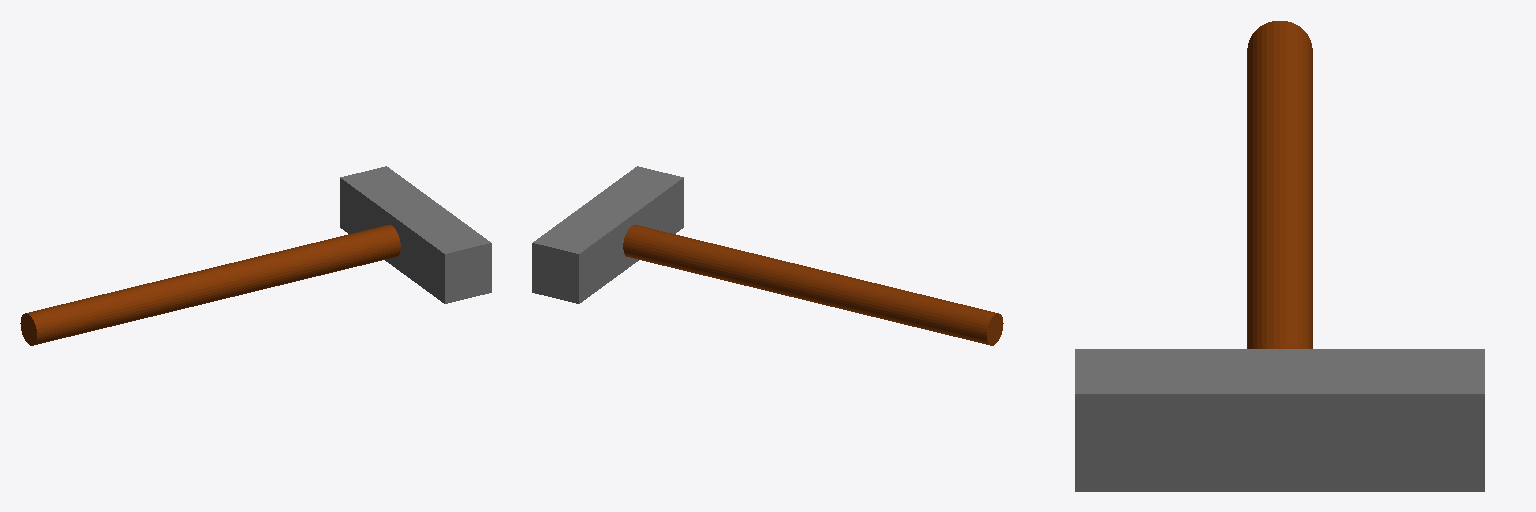
URDF robot description (handle_head):
<?xml version="1.0"?>
<robot name="handle_head">

  <link name="handle_head">
    <!-- Handle -->
    <visual>
              <origin xyz="0 0 0" rpy="0 -1.5707963267948966 0"/>
        <geometry>
          <cylinder length="0.1989984238779135" radius="0.007917653166728175"/>
        </geometry>
        
      <material name="brown">
        <color rgba="0.55 0.27 0.07 1.0"/>
      </material>
    </visual>
    <collision>
              <origin xyz="0 0 0" rpy="0 -1.5707963267948966 0"/>
        <geometry>
          <cylinder length="0.1989984238779135" radius="0.007917653166728175"/>
        </geometry>
        
    </collision>

    <!-- Head -->
    <visual>
              <origin xyz="0.11228310340234508 0 0" rpy="0 0 0"/>
        <geometry>
          <box size="0.025567782926776656 0.09931248974513758 0.026156210806586193"/>
        </geometry>
        
      <material name="gray">
        <color rgba="0.5 0.5 0.5 1.0"/>
      </material>
    </visual>
    <collision>
              <origin xyz="0.11228310340234508 0 0" rpy="0 0 0"/>
        <geometry>
          <box size="0.025567782926776656 0.09931248974513758 0.026156210806586193"/>
        </geometry>
        
    </collision>

    <inertial>
      <origin xyz="0.09730304013677944 0 0" rpy="0 0 0"/>
      <mass value="0.12144397057951559"/>
      <inertia ixx="9.300247755171656e-05" iyy="0.0002483495799368569" izz="0.0003288491797072514" ixy="0" ixz="0" iyz="0"/>
    </inertial>
  </link>

</robot>

--- Facts derived from the render (not from the file) ---
The picture shows the robot from 3 angles, left to right: view 1: azimuth 30°, elevation 25°; view 2: azimuth 150°, elevation 25°; view 3: azimuth 270°, elevation 25°; orthographic projection.
Model handle_head with 1 links and 0 joints (none), rooted at handle_head, posed all joints at 0.
Links seen in each view (by area): view 1: handle_head; view 2: handle_head; view 3: handle_head.
Link boxes in pixels (x1=…): handle_head: x1=20, y1=166, x2=491, y2=345; handle_head: x1=532, y1=166, x2=1003, y2=345; handle_head: x1=1075, y1=21, x2=1484, y2=491.
Size in the robot's own frame: 0.2246 by 0.0993 by 0.0262 metres.
Geometry: primitives only (box / cylinder / sphere), no mesh files.
